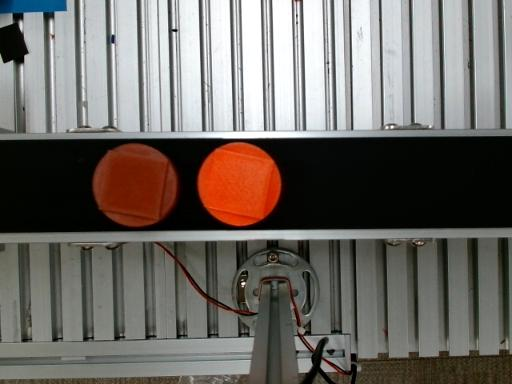Square: (204, 150, 275, 219), (99, 150, 168, 219)
